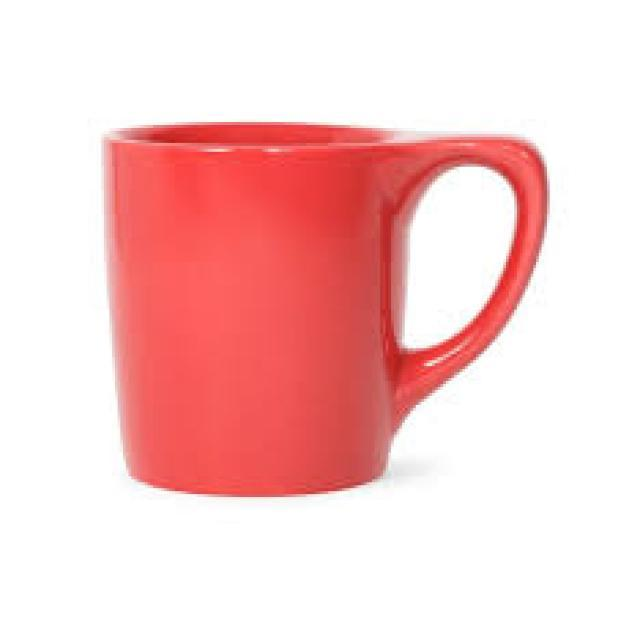taza: (100, 118, 548, 502)
